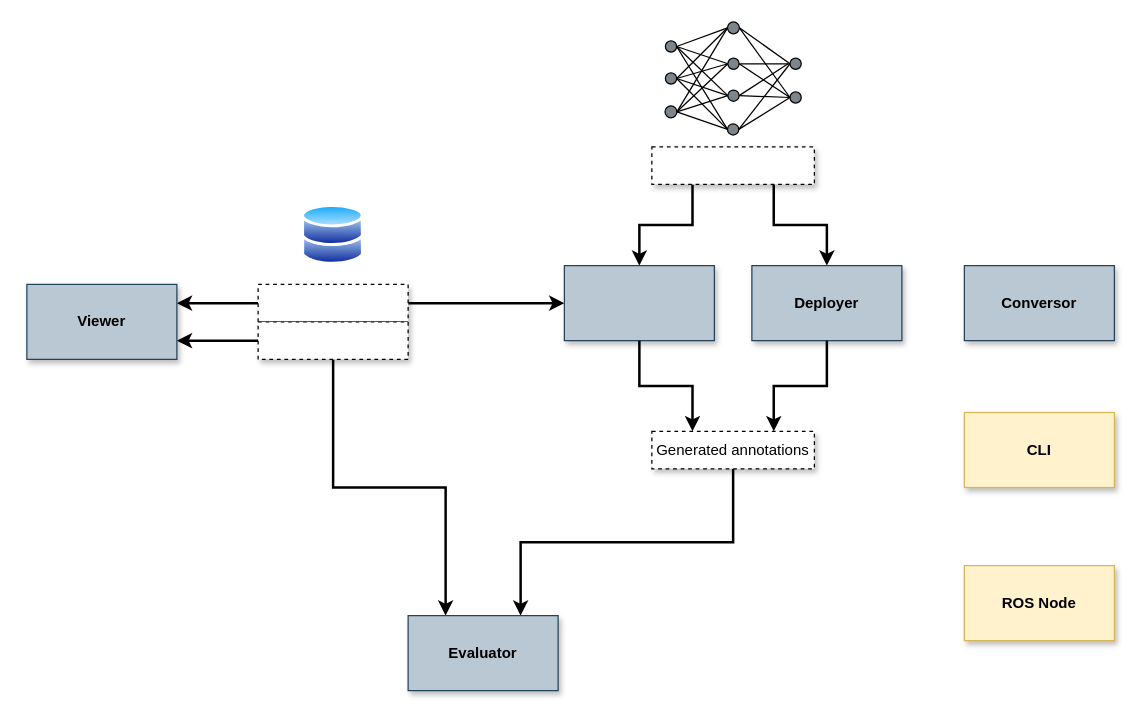
Some shapes in this 1144 by 721 pixel diagram are drawn without their labels. The shapes that lost their labels are listed below. From the top down, each one's centre as x and y in pixels, then its label:
At (x=734, y=167): "Object detection model".
At (x=334, y=304): "Input images".
At (x=640, y=304): "Detector".
At (x=334, y=342): "Annotations".
